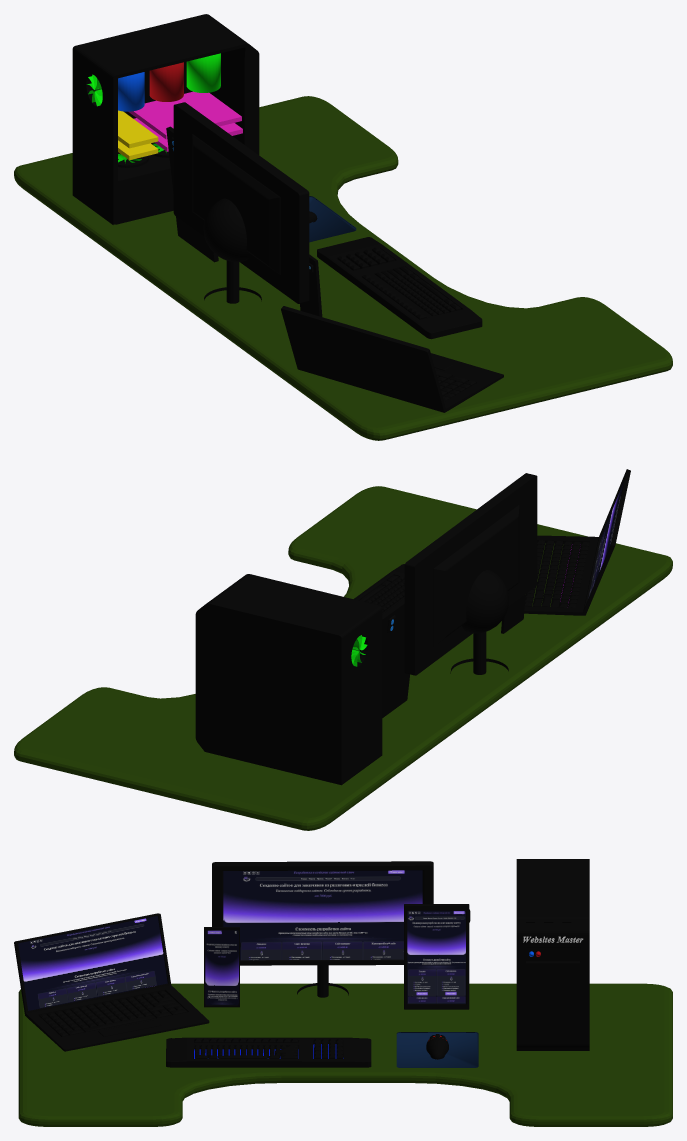
The model's file is serv.gltf.
3 renders of one model, top to bottom at view 1: azimuth 30°, elevation 25°; view 2: azimuth 150°, elevation 25°; view 3: azimuth 270°, elevation 25°, orthographic. The views are drawn at different scales.
Parts seen in each view (by area): view 1: Цилиндр; view 2: Цилиндр; view 3: Цилиндр.
Part boxes in pixels (<box>): Цилиндр: <box>14,14,672,440</box>; Цилиндр: <box>14,469,672,830</box>; Цилиндр: <box>14,859,672,1126</box>.
Size of the model in its own units: 12.9 by 6.27 by 25.54.
25 materials, 4 textured.
